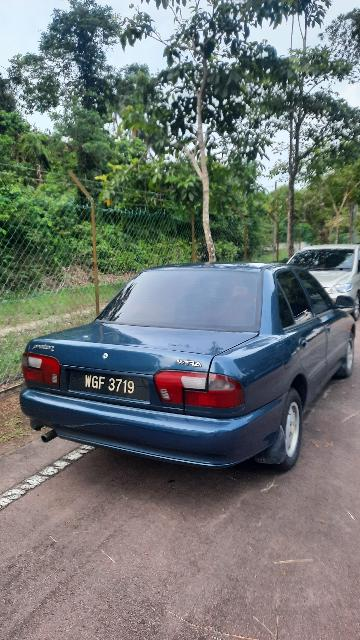License_Plate: (63, 368, 158, 411)
car: (15, 249, 360, 477)
